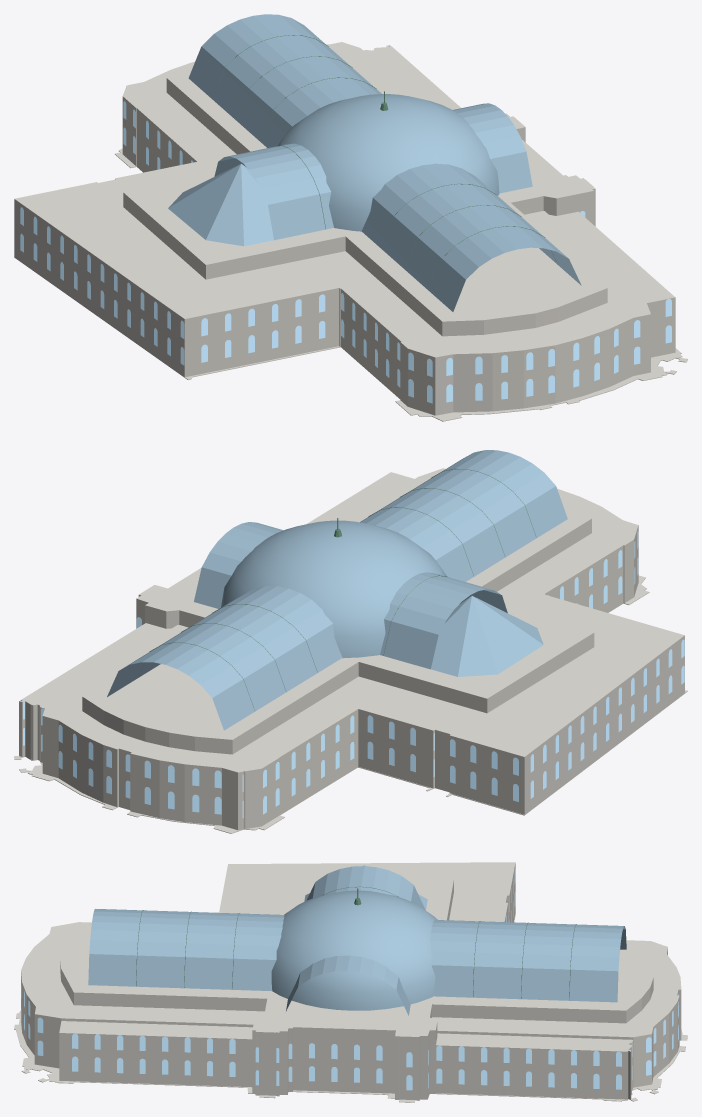
The model's file is detail.glb.
The picture shows the model from 3 angles, top to bottom: view 1: azimuth 30°, elevation 25°; view 2: azimuth 150°, elevation 25°; view 3: azimuth 270°, elevation 25°; orthographic projection. The views are drawn at different scales.
Parts seen in each view (by area): view 1: stone, roof, window, metal; view 2: stone, roof, window, metal; view 3: stone, roof, window, metal.
Boxes of the visible parts, left/top/right/bottom form: stone: left=14, top=42, right=687, bottom=421; roof: left=168, top=14, right=581, bottom=311; window: left=20, top=101, right=671, bottom=403; metal: left=212, top=35, right=557, bottom=290; stone: left=14, top=468, right=687, bottom=833; roof: left=107, top=450, right=567, bottom=730; window: left=23, top=531, right=684, bottom=818; metal: left=138, top=468, right=536, bottom=710; stone: left=14, top=862, right=687, bottom=1102; roof: left=88, top=865, right=626, bottom=1015; window: left=21, top=869, right=678, bottom=1090; metal: left=136, top=886, right=576, bottom=1000.
Bounding box in the file's own units: 160 × 56 × 240.
